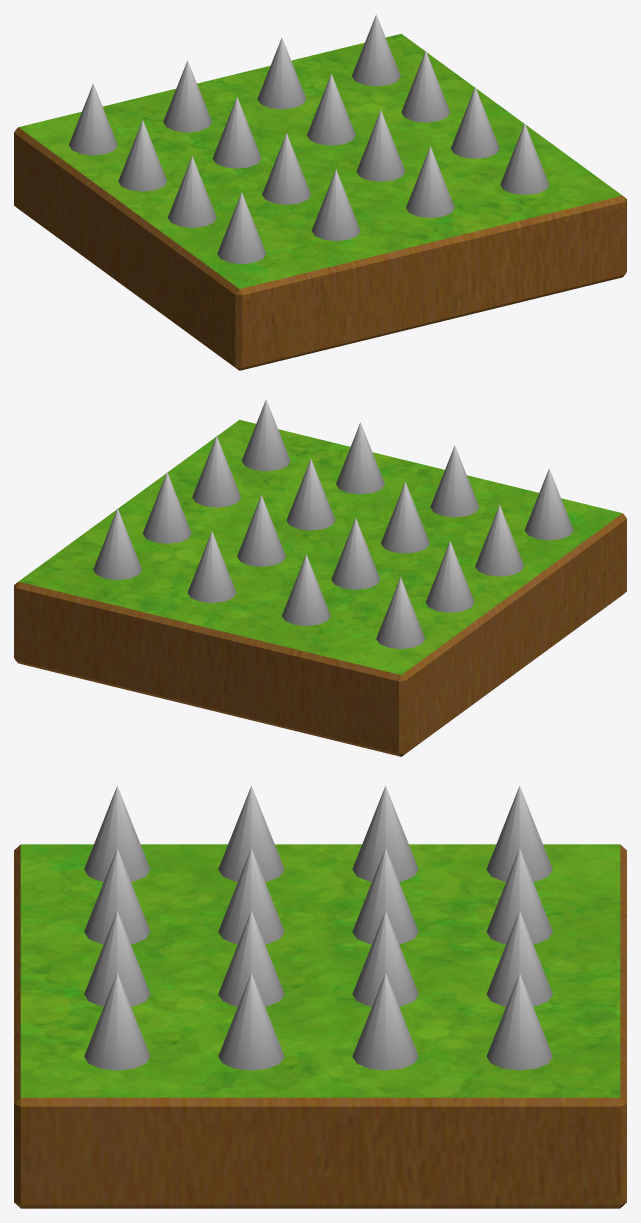
Rendered from Spikes.fbx.
3 views of the same model, one above another, from view 1: azimuth 30°, elevation 25°; view 2: azimuth 150°, elevation 25°; view 3: azimuth 270°, elevation 25° (orthographic). The views are drawn at different scales.
Visible parts, largest first — view 1: Spikes; view 2: Spikes; view 3: Spikes.
Boxes of the visible parts, x1,y1,x2,y2 form: Spikes: (14, 14, 626, 370); Spikes: (14, 399, 626, 756); Spikes: (14, 786, 626, 1208).
Size of the model in its own units: 467 by 467 by 164.
